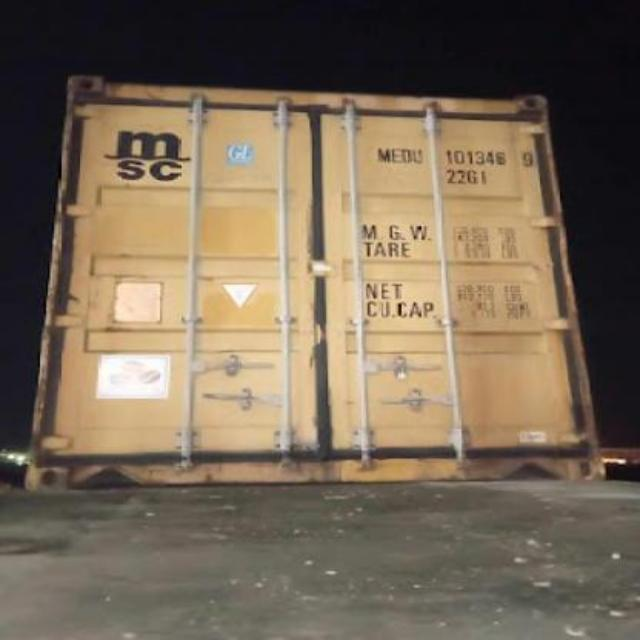0: (454, 147, 464, 165)
1: (442, 144, 454, 168), (466, 146, 476, 166)
3: (474, 144, 486, 166)
4: (486, 144, 496, 166)
6: (496, 144, 508, 168)
9: (522, 148, 536, 168)
D: (400, 146, 412, 166)
E: (390, 144, 402, 166)
M: (376, 144, 392, 166)
U: (412, 145, 424, 165)
